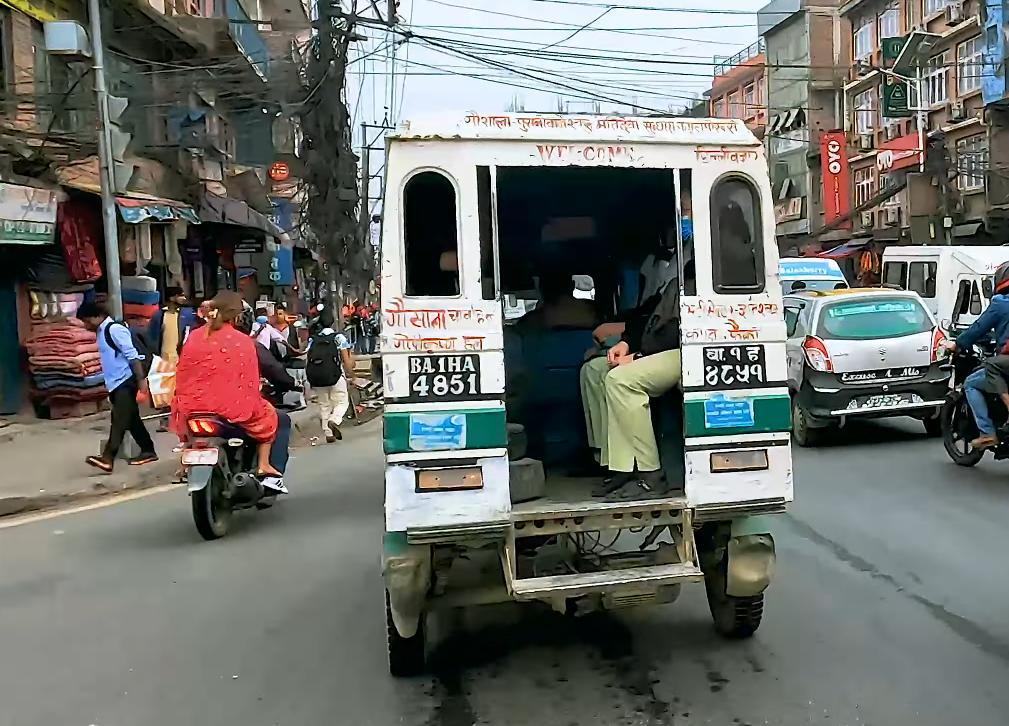tempo: (359, 87, 811, 697)
